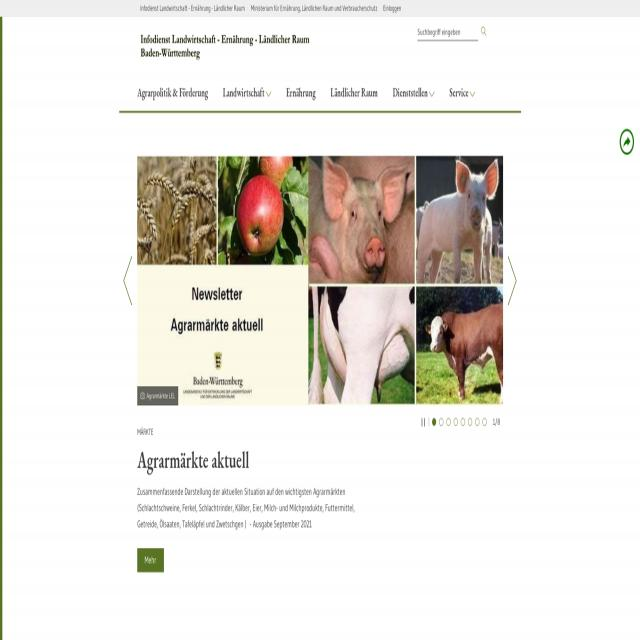button: (137, 30, 332, 62), (130, 76, 216, 112), (323, 76, 385, 112), (218, 76, 278, 107), (279, 76, 323, 112), (507, 254, 517, 308), (123, 254, 133, 308), (429, 89, 435, 99), (481, 26, 487, 36), (420, 418, 426, 428), (470, 89, 475, 99), (446, 419, 451, 426), (453, 419, 458, 426), (482, 419, 487, 426), (432, 419, 436, 426), (439, 419, 443, 426), (461, 419, 465, 426), (468, 419, 472, 426), (475, 419, 479, 426)
field: (418, 24, 490, 40)
